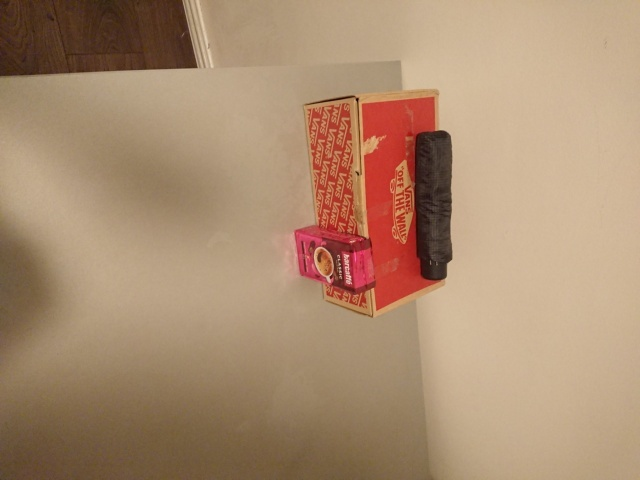Barcaffe Classic Original 225g: (292, 223, 378, 297)
